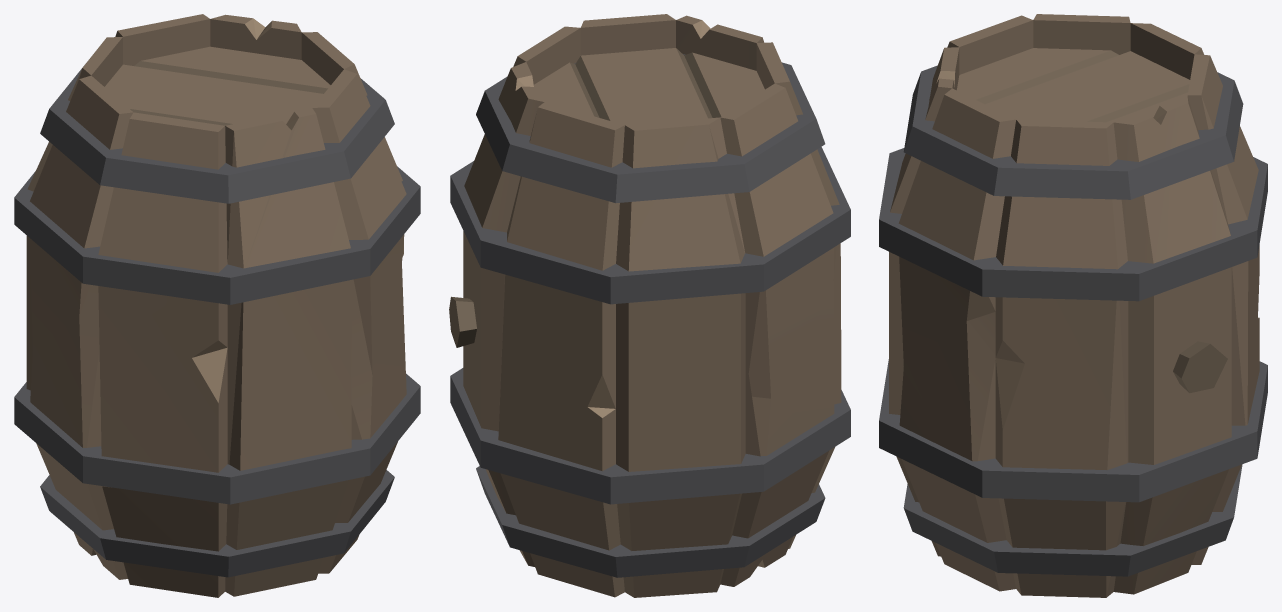
Rendered from Barile_Chiaro.fbx.
The picture shows the model from 3 angles, left to right: view 1: azimuth 30°, elevation 25°; view 2: azimuth 150°, elevation 25°; view 3: azimuth 270°, elevation 25°; orthographic projection.
Parts seen in each view (by area): view 1: BARILE SCURO.001; view 2: BARILE SCURO.001; view 3: BARILE SCURO.001.
Boxes of the visible parts, x1,y1,x2,y2 form: BARILE SCURO.001: (14, 14, 420, 597); BARILE SCURO.001: (449, 14, 850, 597); BARILE SCURO.001: (879, 14, 1267, 597).
Size of the model in its own units: 61.33 by 81.69 by 61.33.
1 material, 1 textured.
